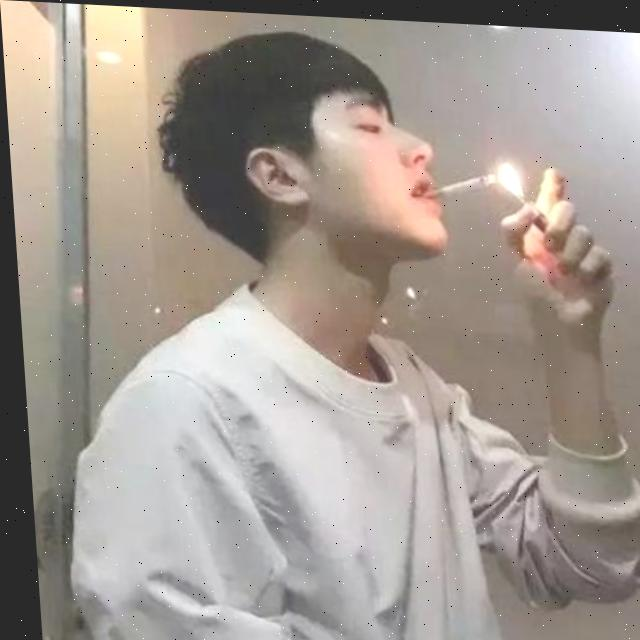cigarette: (419, 167, 488, 203)
